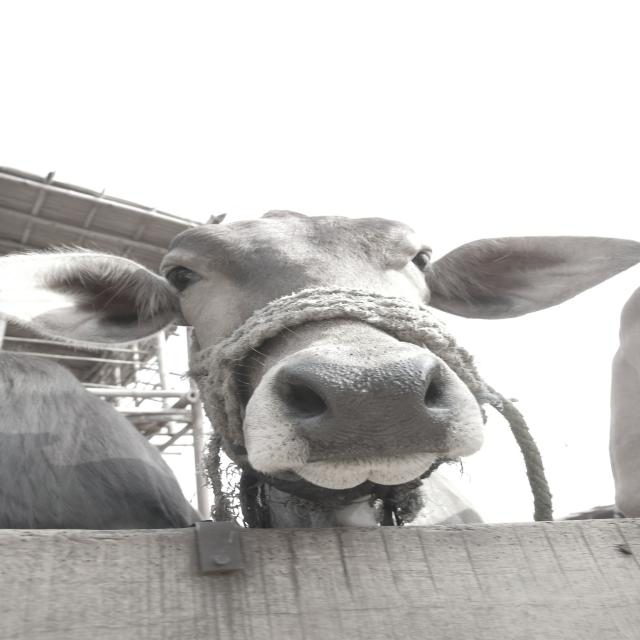muzzles: (260, 350, 475, 467)
